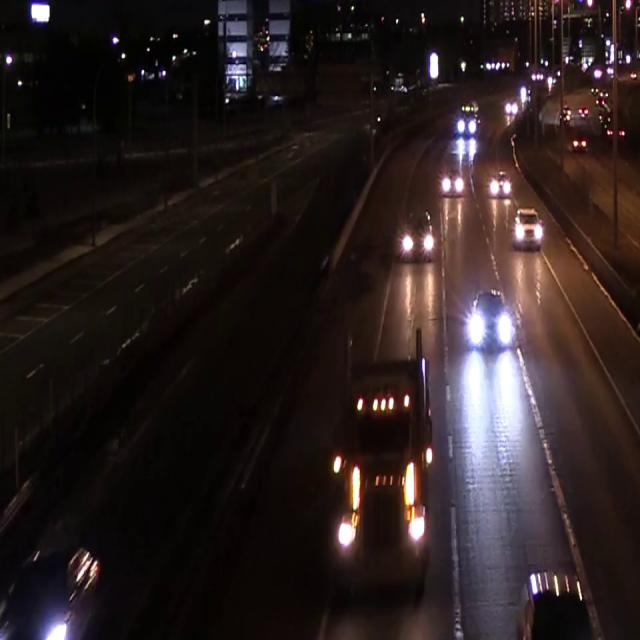bus: (457, 97, 480, 138)
car: (0, 537, 101, 640), (465, 288, 514, 352), (398, 210, 434, 262), (513, 205, 543, 251), (442, 168, 463, 196), (490, 170, 510, 199)
van: (326, 330, 436, 590)
